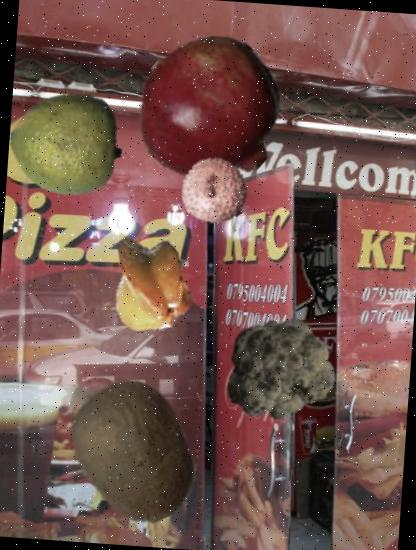Carambula: (100, 231, 204, 334)
Cauliflower: (214, 307, 338, 431)
Kiwi: (56, 372, 212, 530)
Limes: (5, 82, 126, 202)
Lychee: (176, 154, 250, 228)
Pomegranate: (132, 32, 289, 189)
